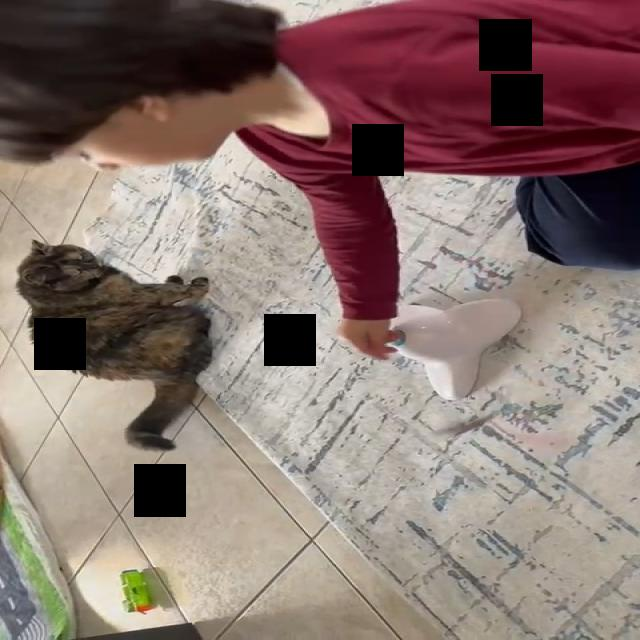authorized: (13, 238, 214, 451)
